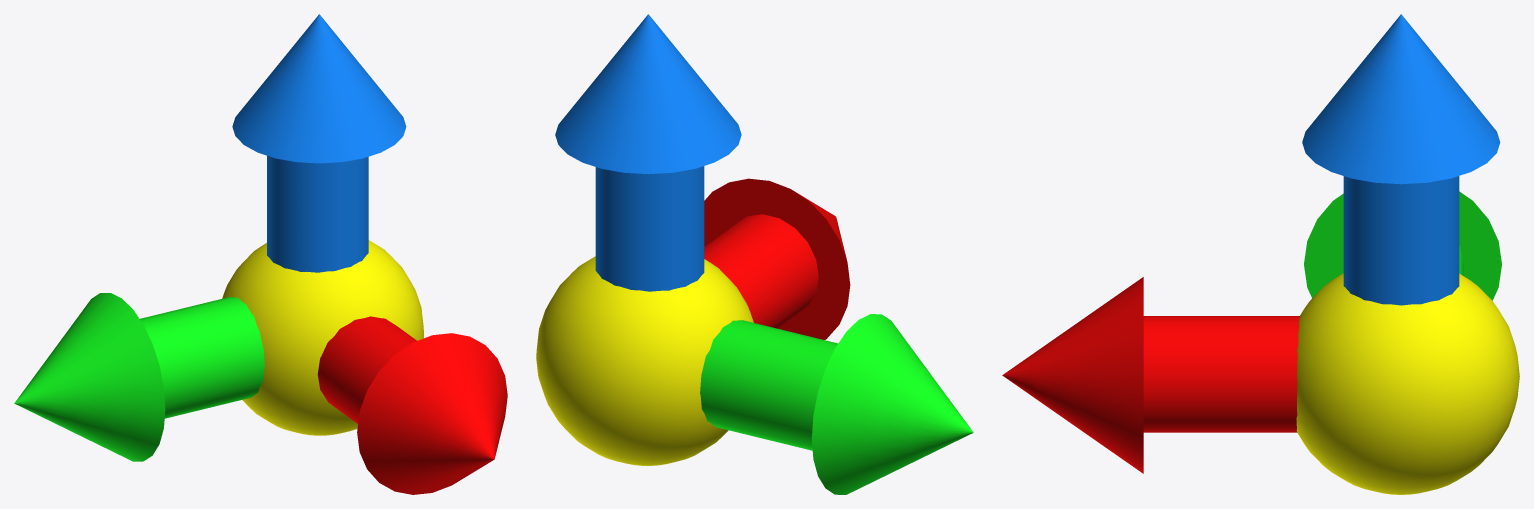
Rendered from axes.obj.
The picture shows the model from 3 angles, left to right: view 1: azimuth 30°, elevation 25°; view 2: azimuth 150°, elevation 25°; view 3: azimuth 270°, elevation 25°; orthographic projection. The views are drawn at different scales.
Visible parts, largest first — view 1: Cone002, Sphere001, Cone003, Cone001, Cylinder001, Cylinder003, Cylinder002; view 2: Sphere001, Cone003, Cone001, Cylinder003, Cylinder001, Cone002, Cylinder002; view 3: Sphere001, Cone001, Cylinder002, Cone002, Cylinder001, Cone003.
Part boxes in pixels (<box>): Cone002: <box>357,333,507,494</box>; Sphere001: <box>222,240,423,435</box>; Cone003: <box>14,293,165,461</box>; Cone001: <box>232,14,406,163</box>; Cylinder001: <box>267,155,368,272</box>; Cylinder003: <box>140,297,264,418</box>; Cylinder002: <box>317,316,416,423</box>; Sphere001: <box>536,256,753,465</box>; Cone003: <box>811,314,973,494</box>; Cone001: <box>555,14,741,174</box>; Cylinder003: <box>700,320,838,450</box>; Cylinder001: <box>595,166,704,291</box>; Cone002: <box>704,178,850,339</box>; Cylinder002: <box>704,214,818,328</box>; Sphere001: <box>1296,273,1519,494</box>; Cone001: <box>1302,14,1500,184</box>; Cylinder002: <box>1143,316,1299,432</box>; Cone002: <box>1002,277,1143,473</box>; Cylinder001: <box>1343,176,1459,305</box>; Cone003: <box>1304,191,1501,300</box>.
Bounding box in the file's own units: 25.63 × 25.54 × 25.52.
Materials: 4 (4 with a texture image).
